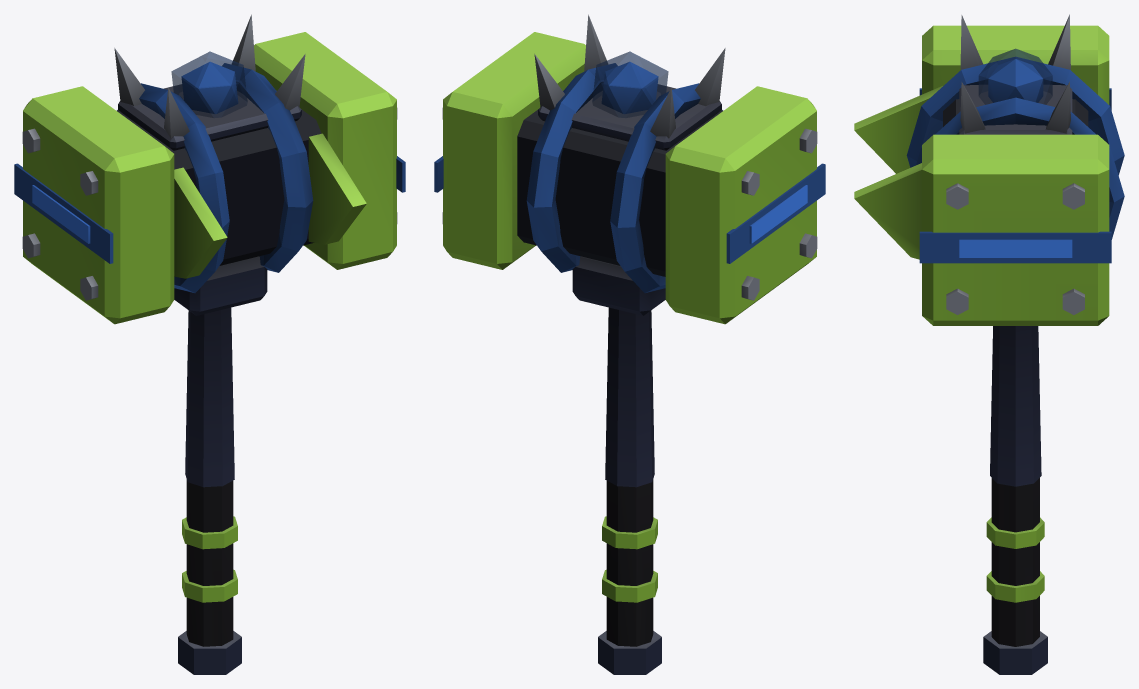
The model's file is Hammer.fbx.
3 renders of one model, left to right at view 1: azimuth 30°, elevation 25°; view 2: azimuth 150°, elevation 25°; view 3: azimuth 270°, elevation 25°, orthographic.
Parts seen in each view (by area): view 1: Body, Halo_Glow, Accent_Glow; view 2: Body, Halo_Glow, Accent_Glow; view 3: Body, Halo_Glow, Accent_Glow.
Boxes of the visible parts, left/top/right/bottom form: Body: left=22, top=14, right=397, bottom=674; Halo_Glow: left=14, top=51, right=405, bottom=293; Accent_Glow: left=32, top=62, right=238, bottom=243; Body: left=442, top=14, right=817, bottom=674; Halo_Glow: left=434, top=51, right=825, bottom=293; Accent_Glow: left=601, top=62, right=807, bottom=243; Body: left=854, top=14, right=1109, bottom=674; Halo_Glow: left=906, top=48, right=1124, bottom=263; Accent_Glow: left=959, top=59, right=1072, bottom=257.
Bounding box in the file's own units: 2.2 × 4.21 × 1.67.
